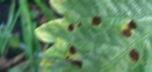Tomato Early blight leaf: (14, 0, 152, 72)
